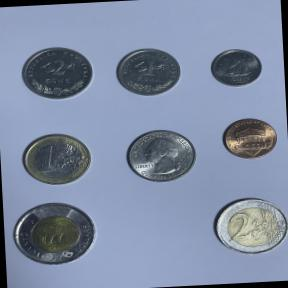coin: (8, 198, 102, 270), (210, 193, 288, 260), (16, 42, 98, 104), (120, 125, 202, 186), (18, 131, 95, 189), (219, 114, 282, 163), (206, 45, 266, 90)
